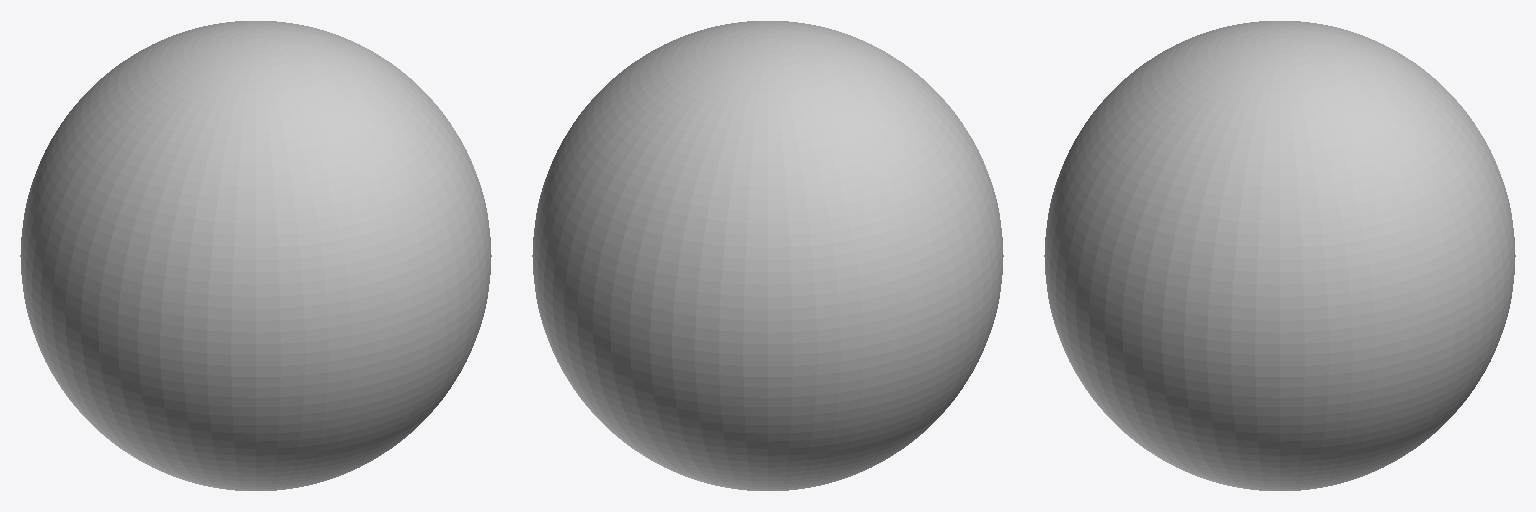
File: moon.obj
3 views of the same model, side by side, from view 1: azimuth 30°, elevation 25°; view 2: azimuth 150°, elevation 25°; view 3: azimuth 270°, elevation 25° (orthographic).
Parts seen in each view (by area): view 1: Sphere; view 2: Sphere; view 3: Sphere.
Boxes of the visible parts, x1=… form: Sphere: x1=20, y1=21, x2=491, y2=490; Sphere: x1=532, y1=21, x2=1003, y2=490; Sphere: x1=1044, y1=21, x2=1515, y2=490.
Size of the model in its own units: 0.5 by 0.5 by 0.5.